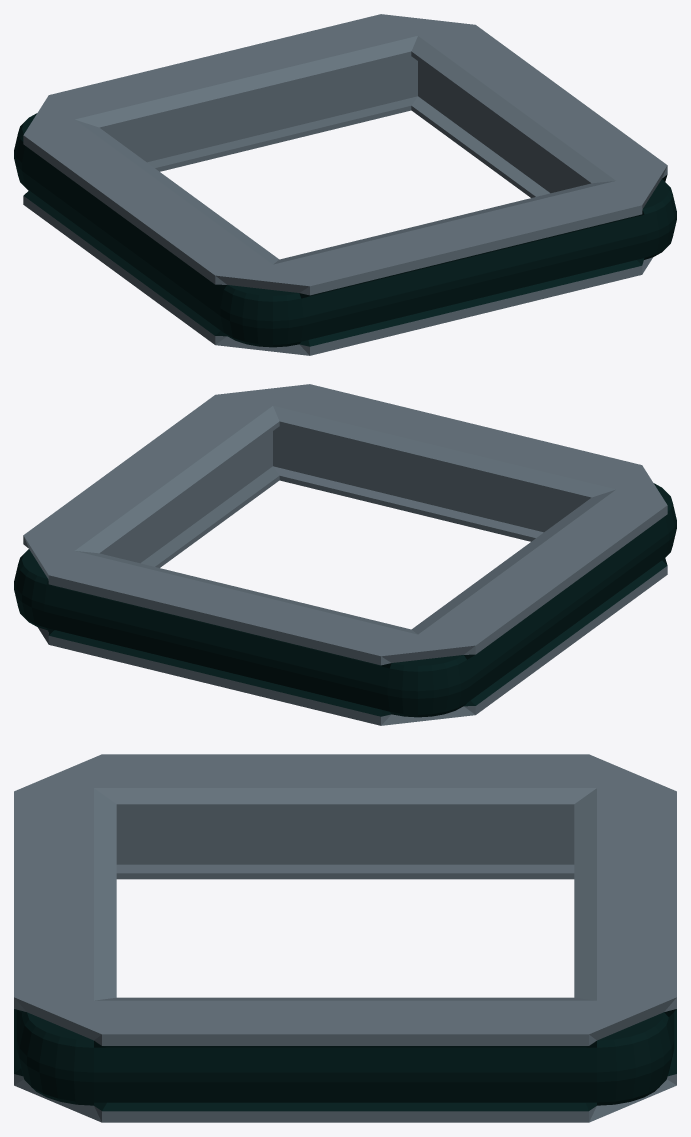
Rendered from FourSideFrame.fbx.
The picture shows the model from 3 angles, top to bottom: view 1: azimuth 30°, elevation 25°; view 2: azimuth 150°, elevation 25°; view 3: azimuth 270°, elevation 25°; orthographic projection. The views are drawn at different scales.
Visible parts, largest first — view 1: FourSideFrame; view 2: FourSideFrame; view 3: FourSideFrame.
Boxes of the visible parts, x1=… form: FourSideFrame: x1=14, y1=14, x2=676, y2=355; FourSideFrame: x1=14, y1=384, x2=676, y2=725; FourSideFrame: x1=14, y1=754, x2=676, y2=1122.
Size of the model in its own units: 13.15 by 1.93 by 13.15.
